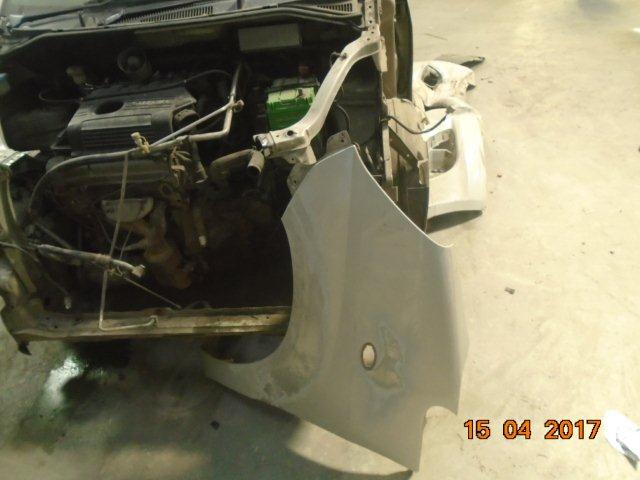Large_tear_or_damage: (1, 44, 459, 440)
